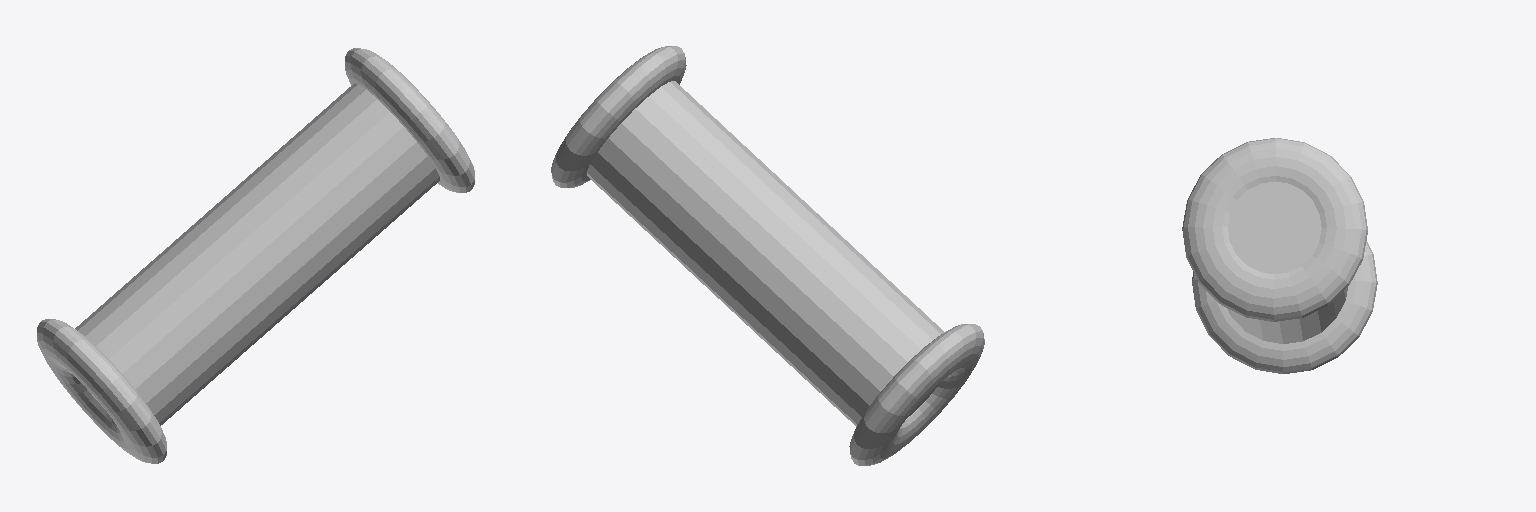
Rendered from BambuPeque.obj.
3 renders of one model, left to right at view 1: azimuth 30°, elevation 25°; view 2: azimuth 150°, elevation 25°; view 3: azimuth 270°, elevation 25°, orthographic.
Parts seen in each view (by area): view 1: polySurface11; view 2: polySurface11; view 3: polySurface11.
Boxes of the visible parts, box(x1,y1,x2,y2) form: polySurface11: box(37, 48, 474, 463); polySurface11: box(551, 46, 984, 465); polySurface11: box(1182, 138, 1377, 373).
Bounding box in the file's own units: 2.04 × 1.69 × 0.8651.